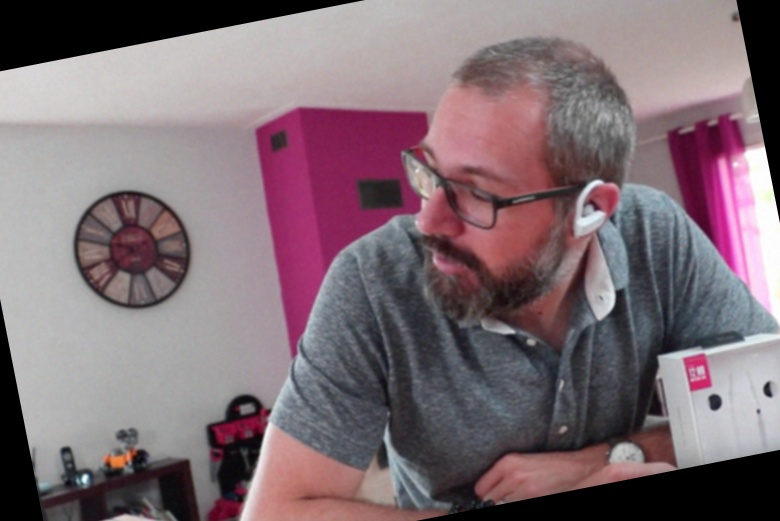earphone: (558, 181, 627, 247)
